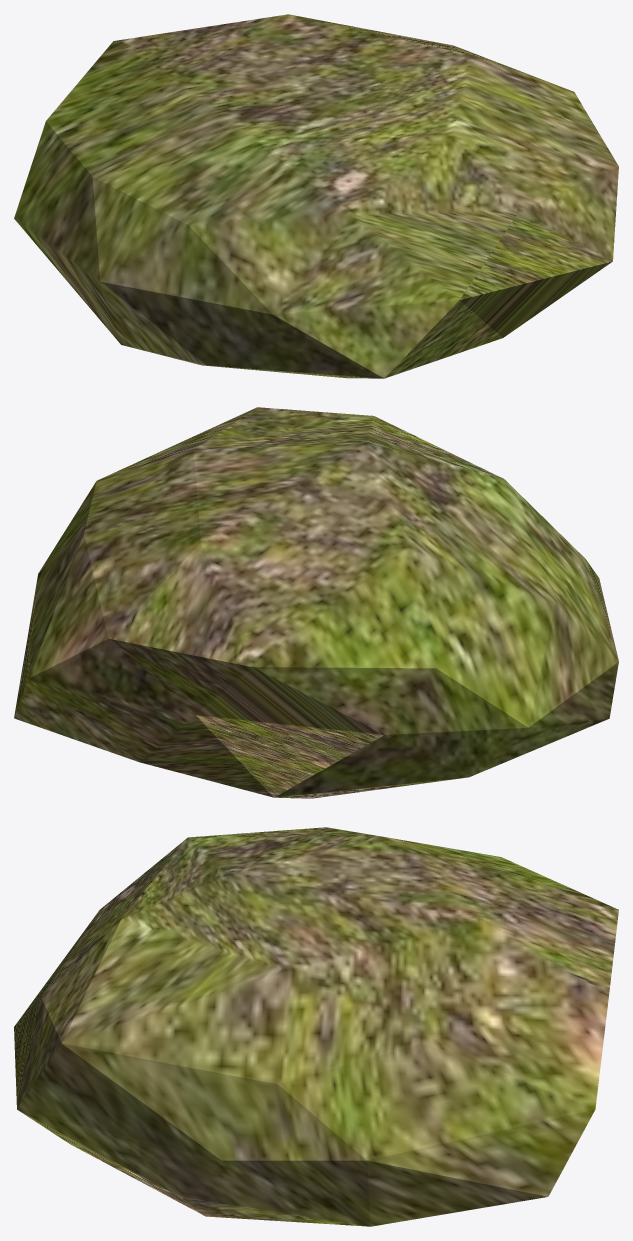
File: Bush5.glb
3 renders of one model, top to bottom at view 1: azimuth 30°, elevation 25°; view 2: azimuth 150°, elevation 25°; view 3: azimuth 270°, elevation 25°, orthographic. The views are drawn at different scales.
Visible parts, largest first — view 1: Icosphere; view 2: Icosphere; view 3: Icosphere.
Boxes of the visible parts, box(x1,y1,x2,y2) form: Icosphere: box(14, 14, 618, 378); Icosphere: box(14, 407, 618, 798); Icosphere: box(14, 827, 618, 1226).
Bounding box in the file's own units: 9.38 × 5 × 8.98.
1 material, 1 textured.
